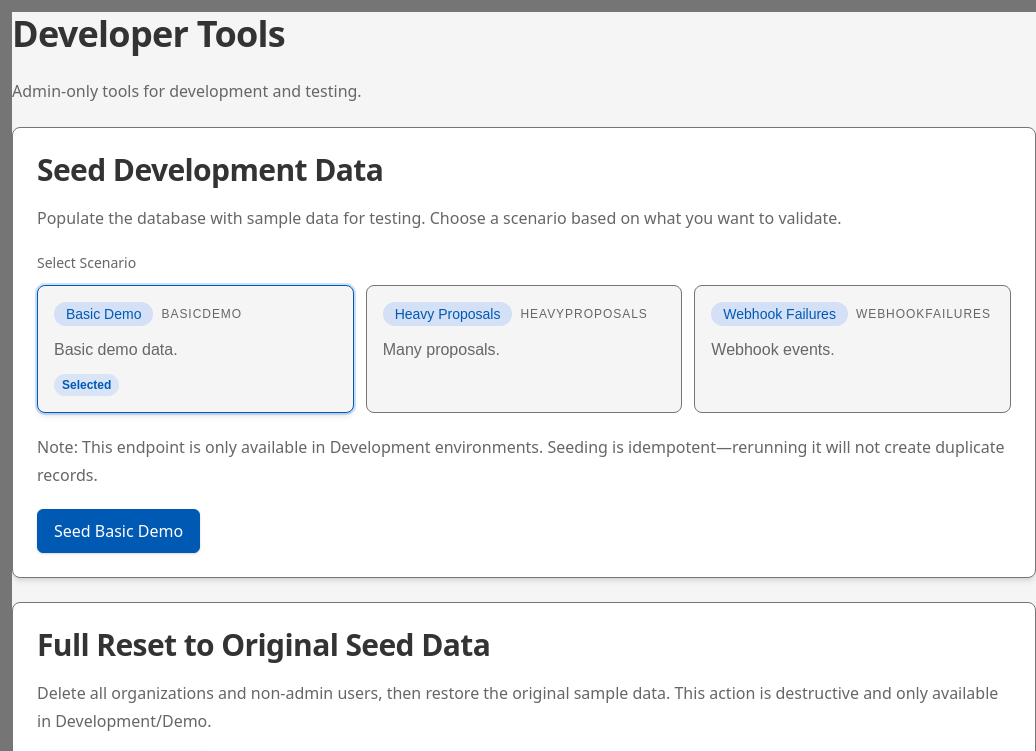
Test: AdminDevToolsPage › displays network error message when server is unreachable
Click the button "Seed Basic Demo": {"x": 119, "y": 531} [37, 509, 200, 553]
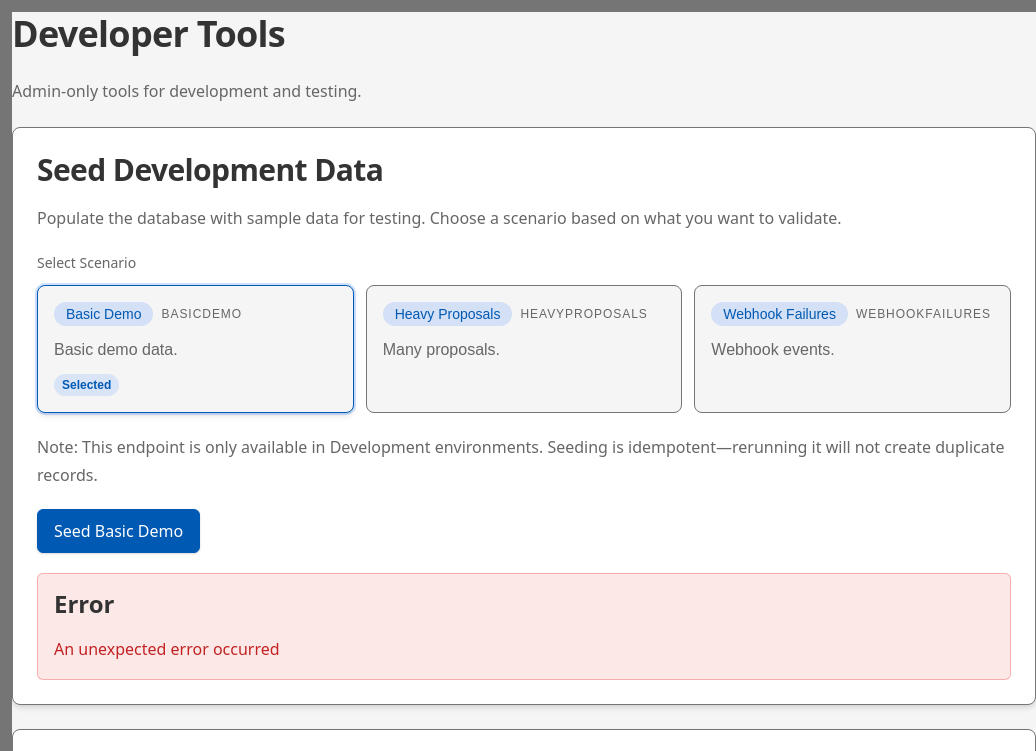
Now the text "An unexpected error occurred" is shown, box [54, 638, 280, 660]
